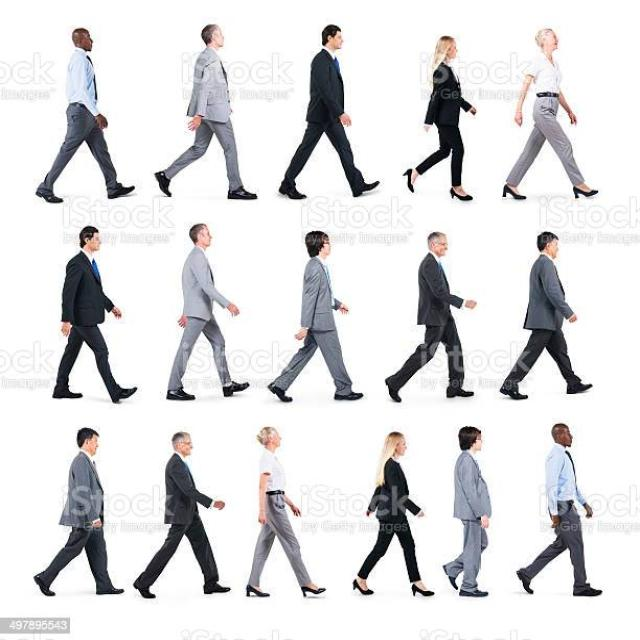Person: (154, 24, 258, 200), (36, 27, 135, 204), (279, 24, 379, 199), (502, 29, 599, 200), (267, 231, 363, 401), (515, 422, 607, 596), (134, 432, 231, 596), (385, 232, 478, 402), (164, 222, 251, 400), (53, 225, 139, 405), (500, 231, 592, 399), (35, 427, 125, 595), (247, 427, 325, 597), (353, 432, 433, 596), (402, 36, 476, 202), (440, 425, 492, 597)
